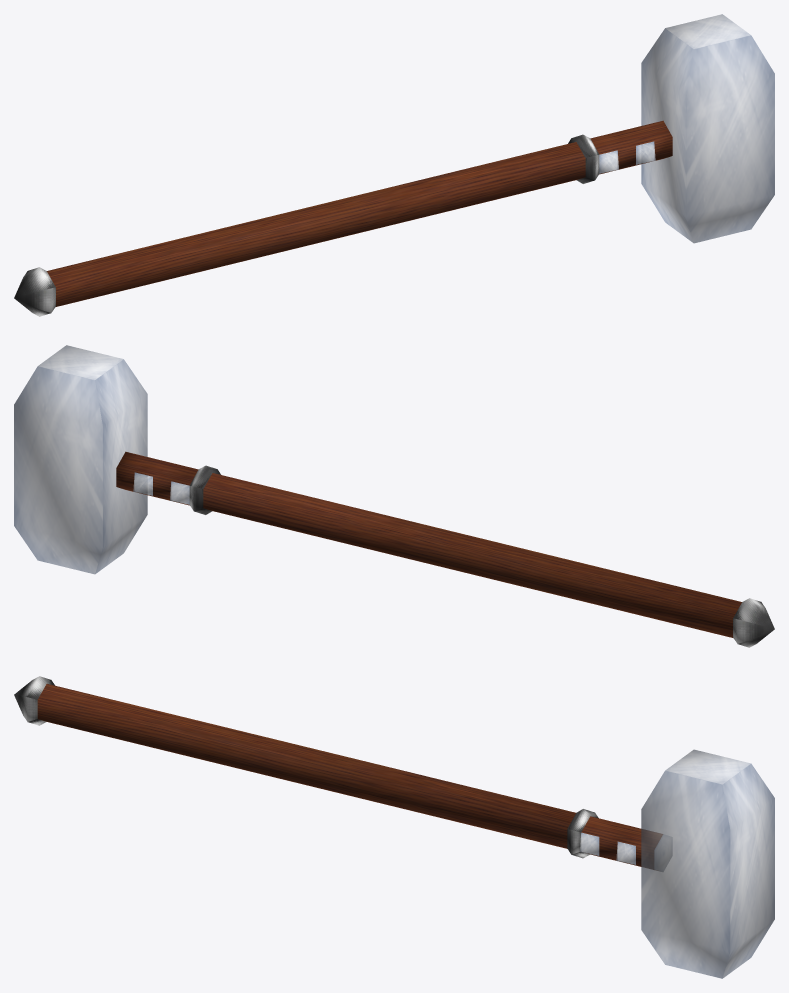
3 views of the same model, one above another, from view 1: azimuth 30°, elevation 25°; view 2: azimuth 150°, elevation 25°; view 3: azimuth 330°, elevation 25° (orthographic).
Visible parts, largest first — view 1: it178; view 2: it178; view 3: it178.
Boxes of the visible parts, x1=… form: it178: x1=14, y1=14, x2=774, y2=316; it178: x1=14, y1=345, x2=774, y2=647; it178: x1=14, y1=676, x2=774, y2=978.
Size of the model in its own units: 3.38 by 0.849 by 0.3531.
Materials: 3 (3 with a texture image).
